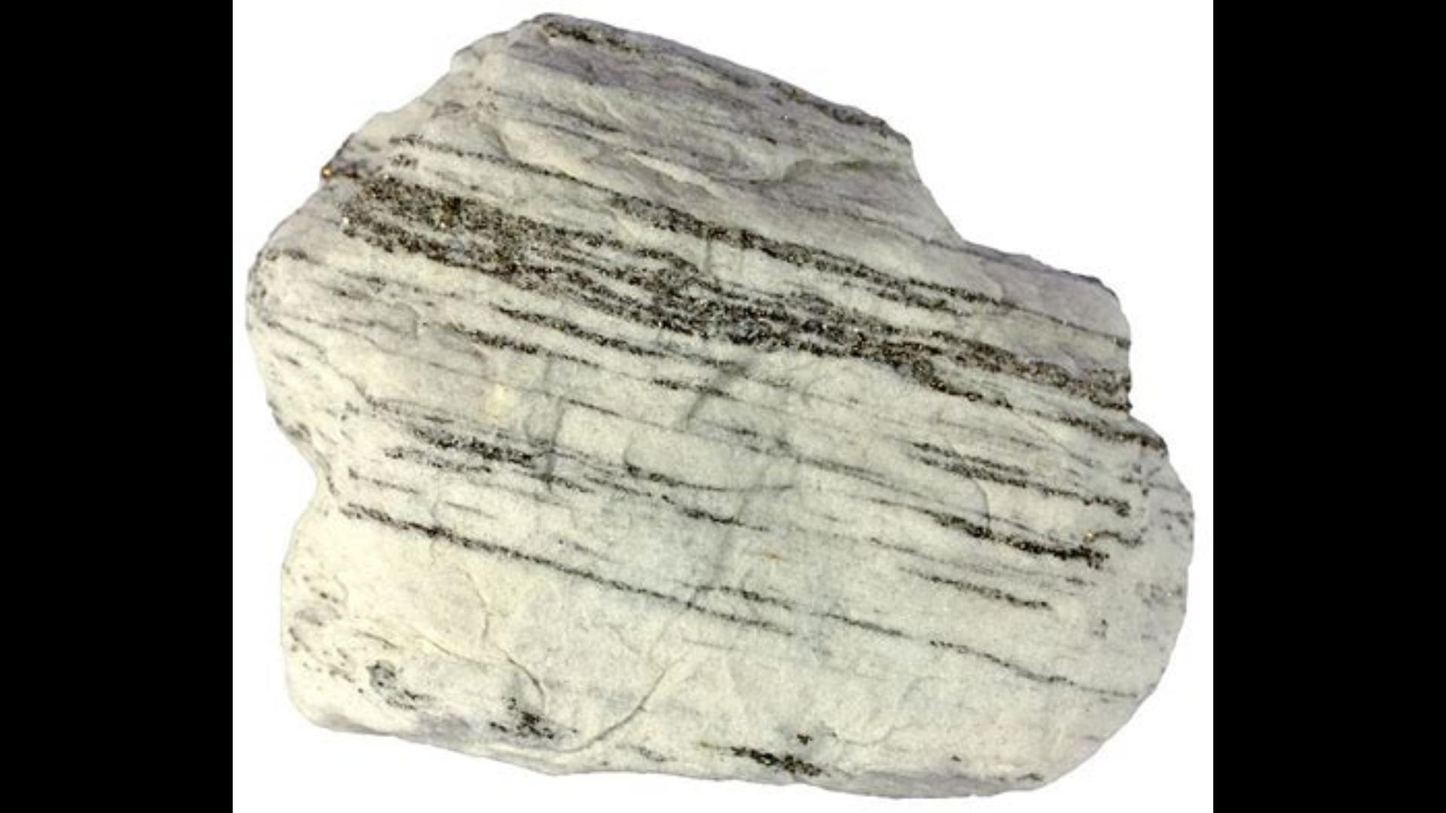rock: (249, 17, 1189, 794)
